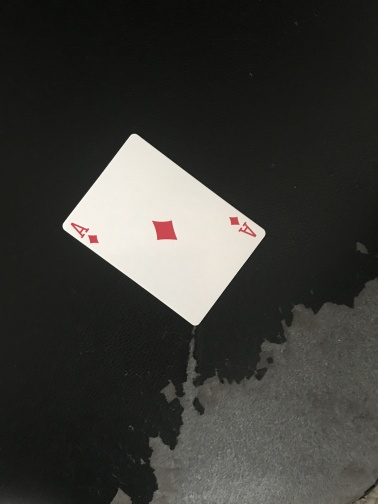ace: (60, 132, 267, 328)
